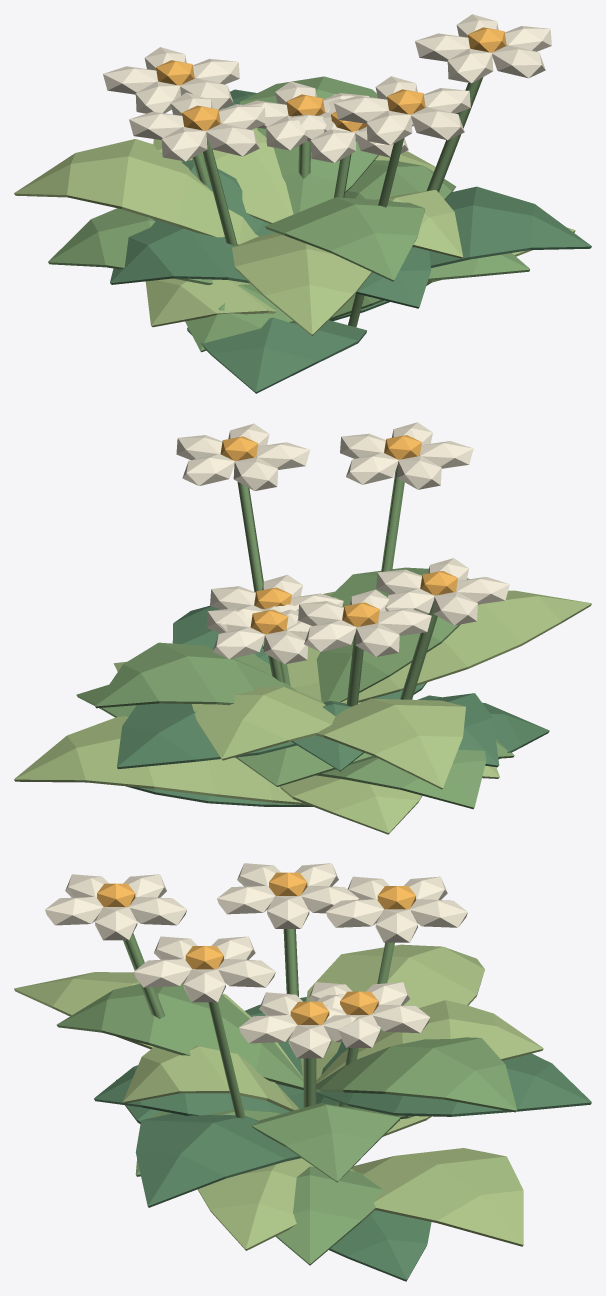
The model's file is beach_bloom.glb.
3 renders of one model, top to bottom at view 1: azimuth 30°, elevation 25°; view 2: azimuth 150°, elevation 25°; view 3: azimuth 270°, elevation 25°, orthographic. The views are drawn at different scales.
Visible parts, largest first — view 1: beach_bloom; view 2: beach_bloom; view 3: beach_bloom.
Boxes of the visible parts, <box> form: beach_bloom: <box>14,14,591,393</box>; beach_bloom: <box>14,422,591,834</box>; beach_bloom: <box>14,863,591,1281</box>.
Bounding box in the file's own units: 0.6942 × 0.446 × 0.7426.
